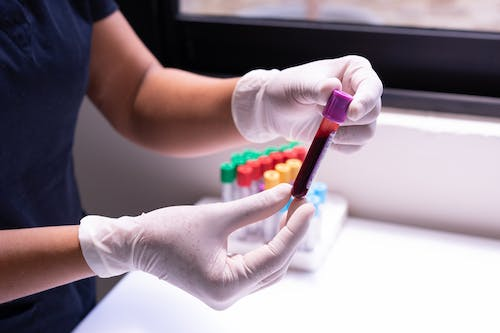blood: (288, 118, 337, 200)
